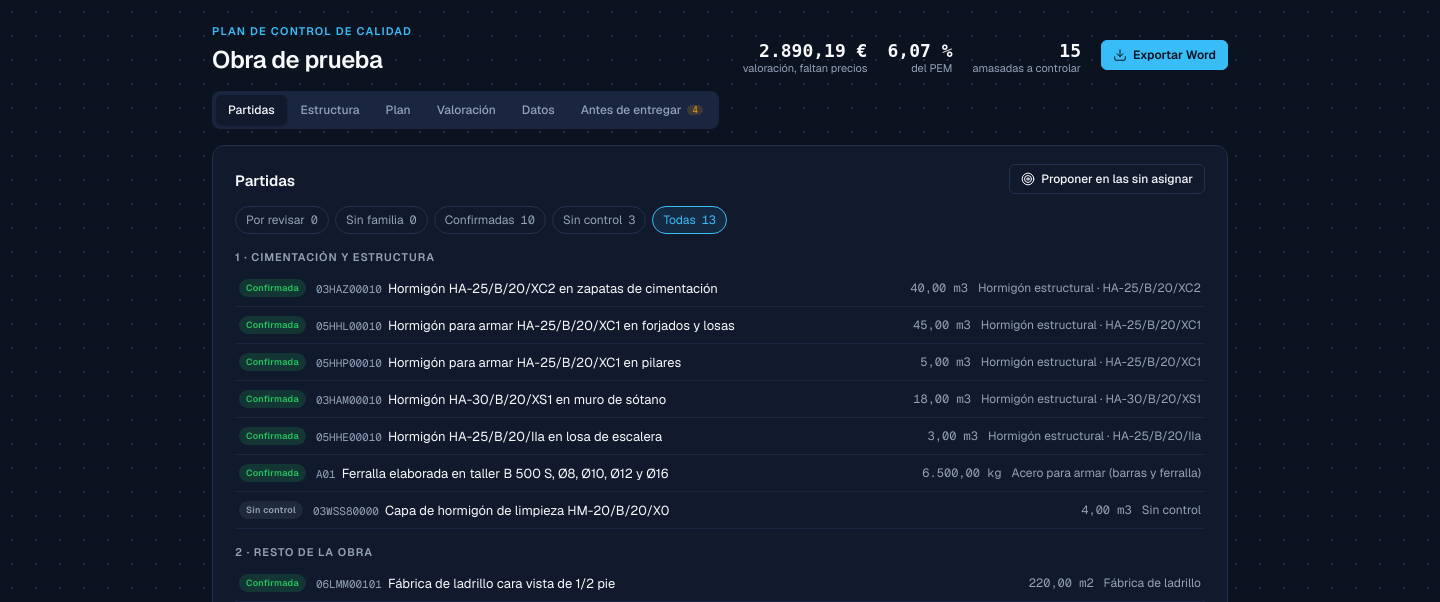
Scenario: «Tomar precios de un banco» (A1) › enseña «pasaría de A a B» sin aplicar nada; «Aplicar» copia los precios al plan
Click the tab "Valoración" at (466, 110), box [425,95,508,125]
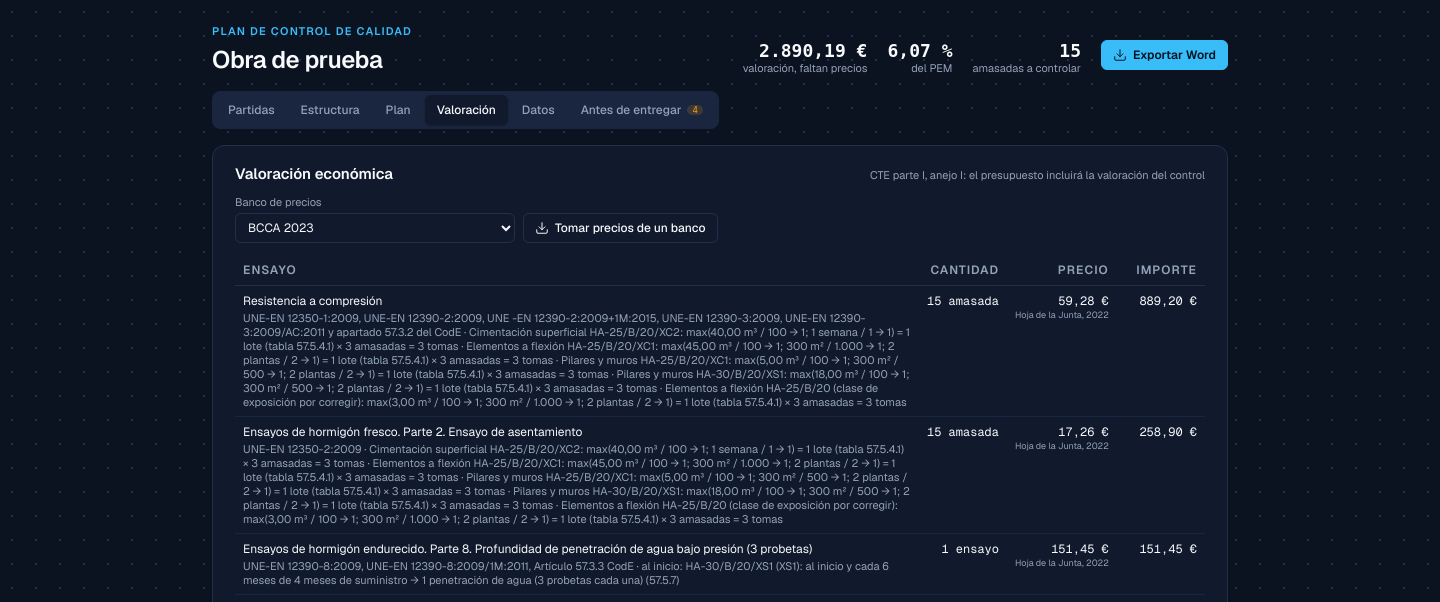
Click the button "Tomar precios de un banco" at (620, 228), box [523,213,718,243]
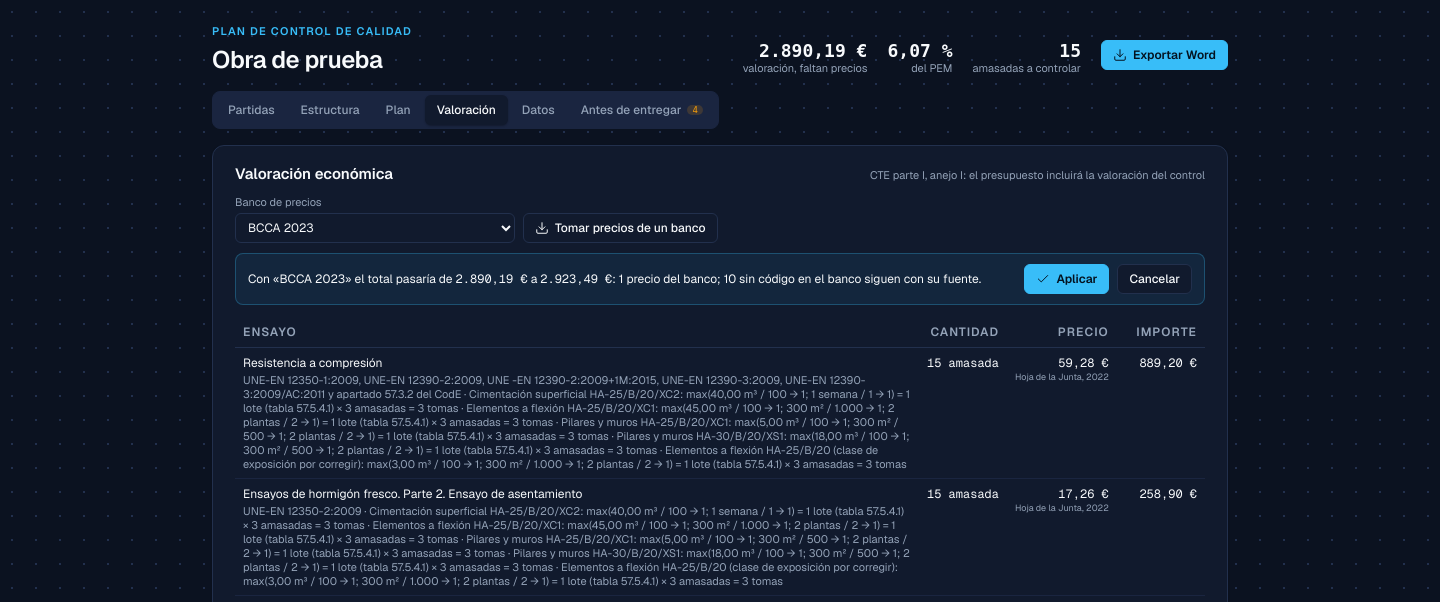
Check: the message shows "sin código en el banco siguen con su fuente", box [717,271,979,287]
Click the button "Aplicar" at (1067, 279), box [1024,264,1110,294]
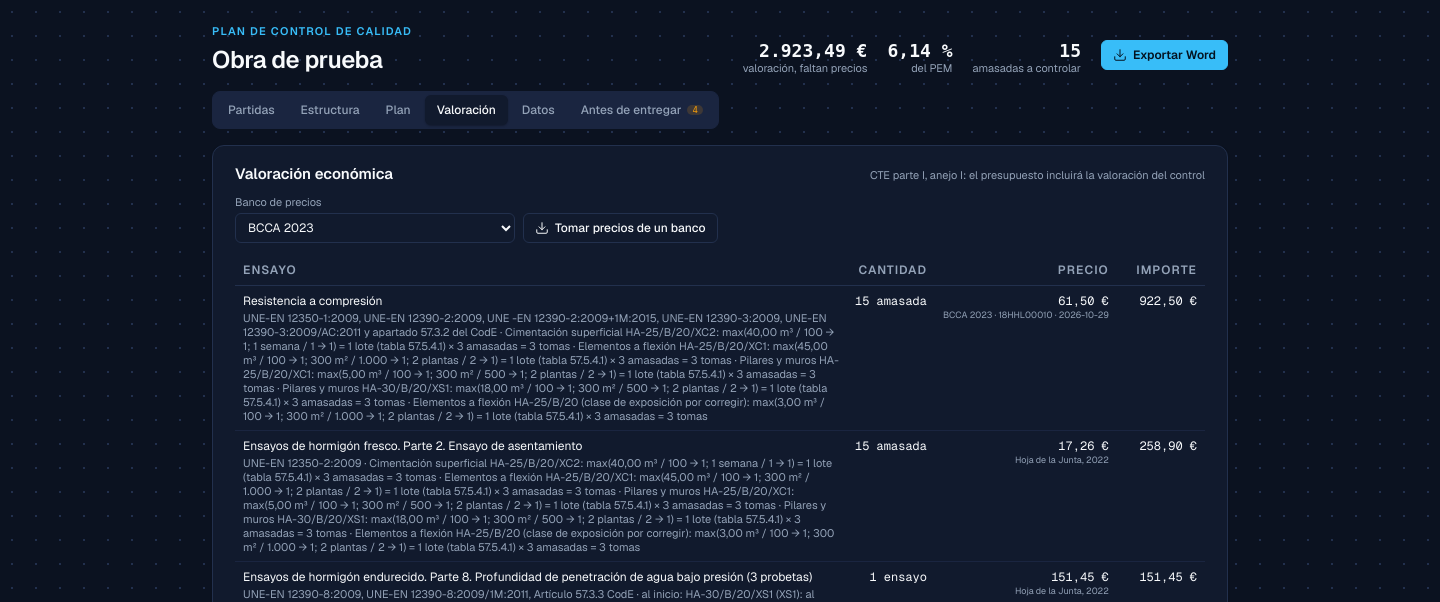
Check: the text "BCCA 2023 · 18HHL00010 · 2026-10-29" is shown, box [943,309,1109,321]
